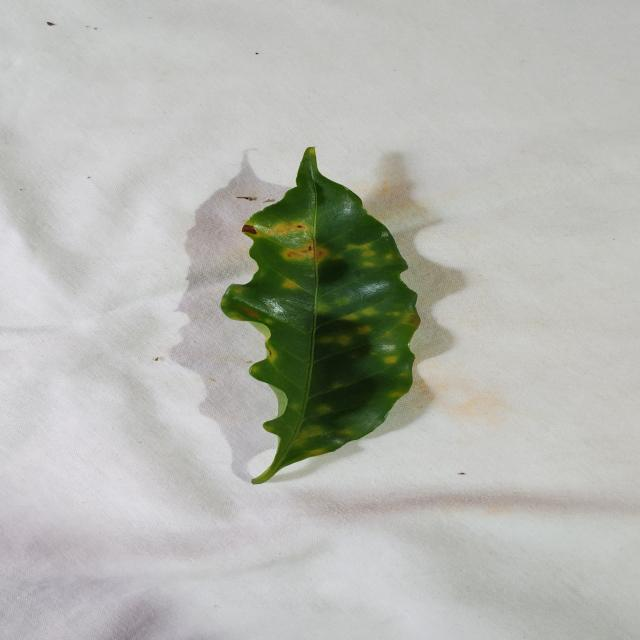Enfermedad-Roya: (219, 148, 423, 485)
